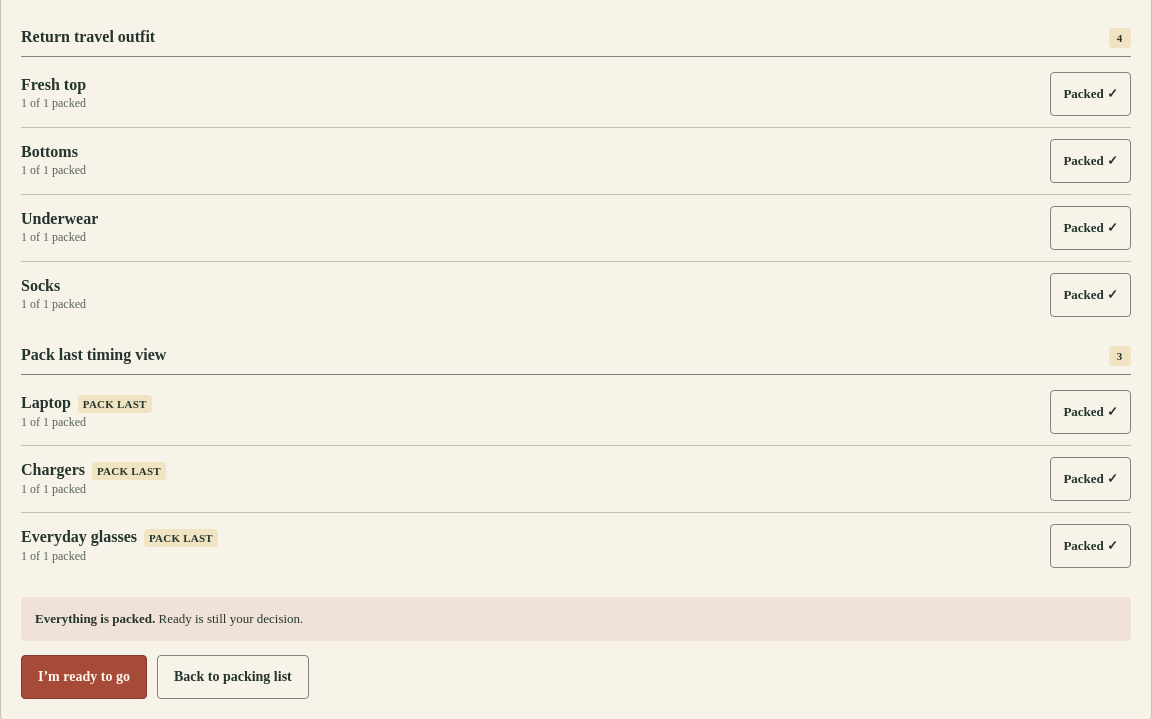
Scenario: marking Ready and not ready › waits for the server, then announces once, swaps the button and keeps focus on it
(page scrolled)
Click the button "I’m ready to go" at [84, 677], box [21, 655, 147, 699]
(page scrolled)
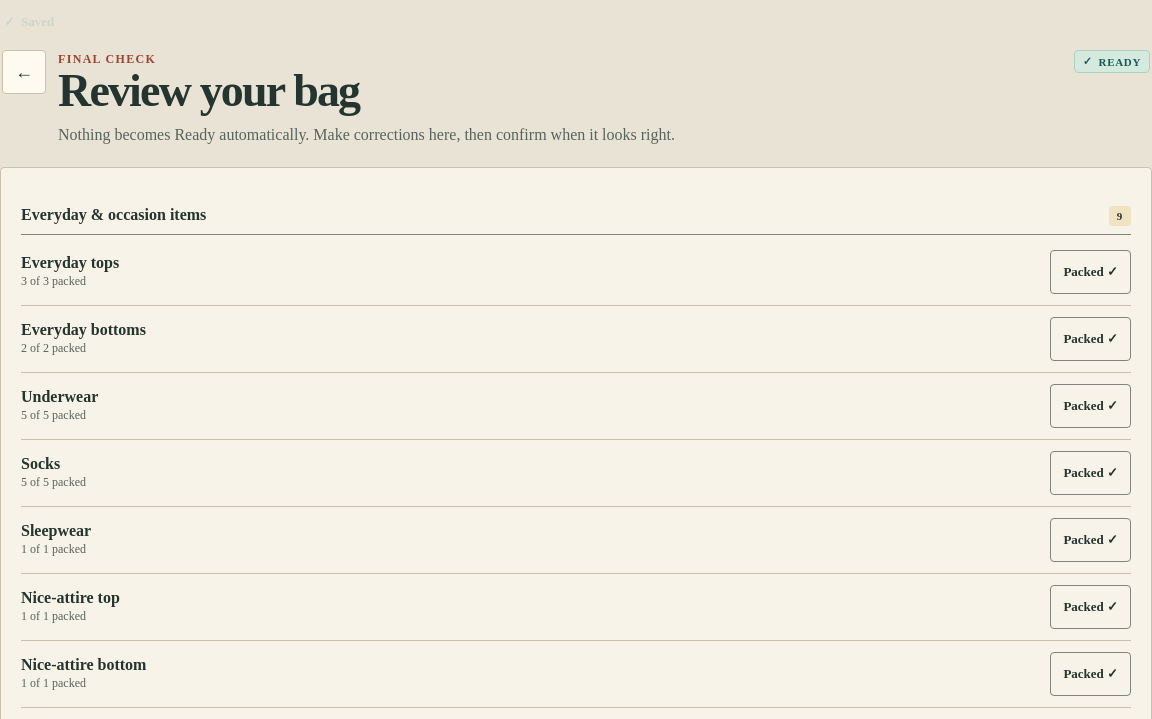
Expected: the text "Packing" is shown, [1074, 50, 1150, 73]
Result: the text "Ready" is shown at [1099, 56, 1141, 68]
Result: the button "I’m ready to go" is gone
